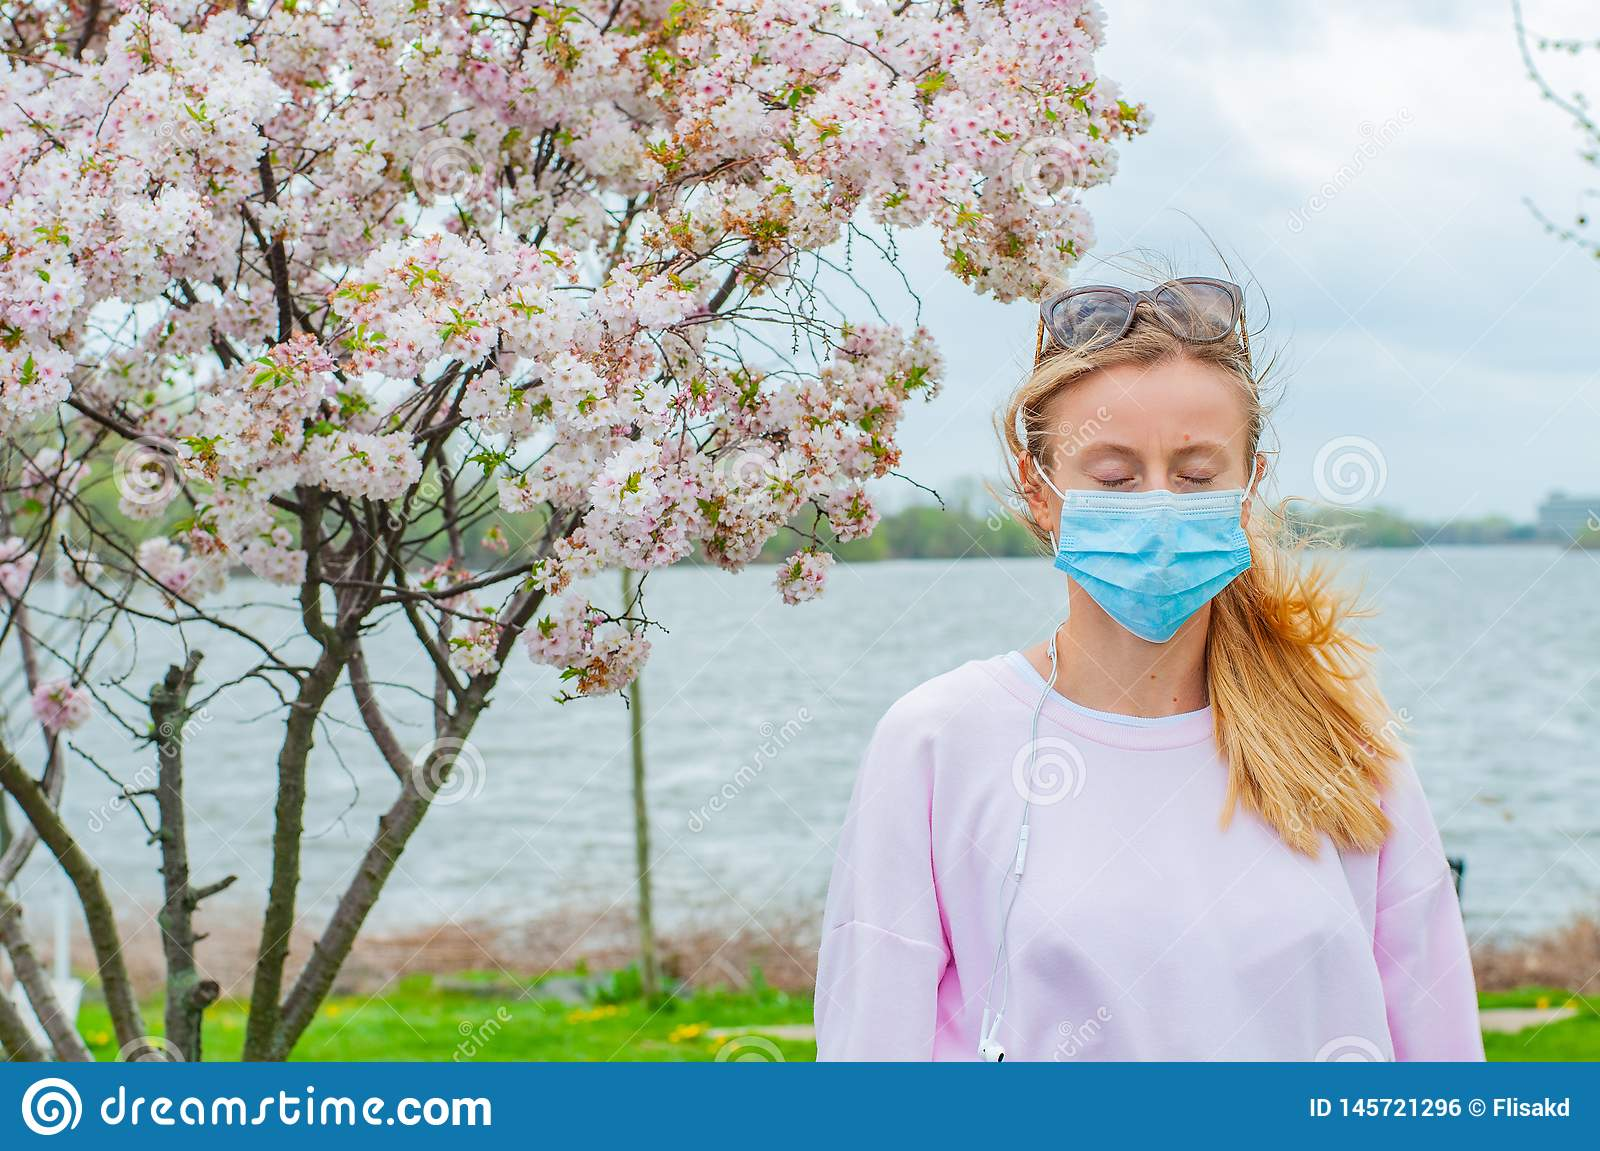mask: (1053, 490, 1253, 647)
